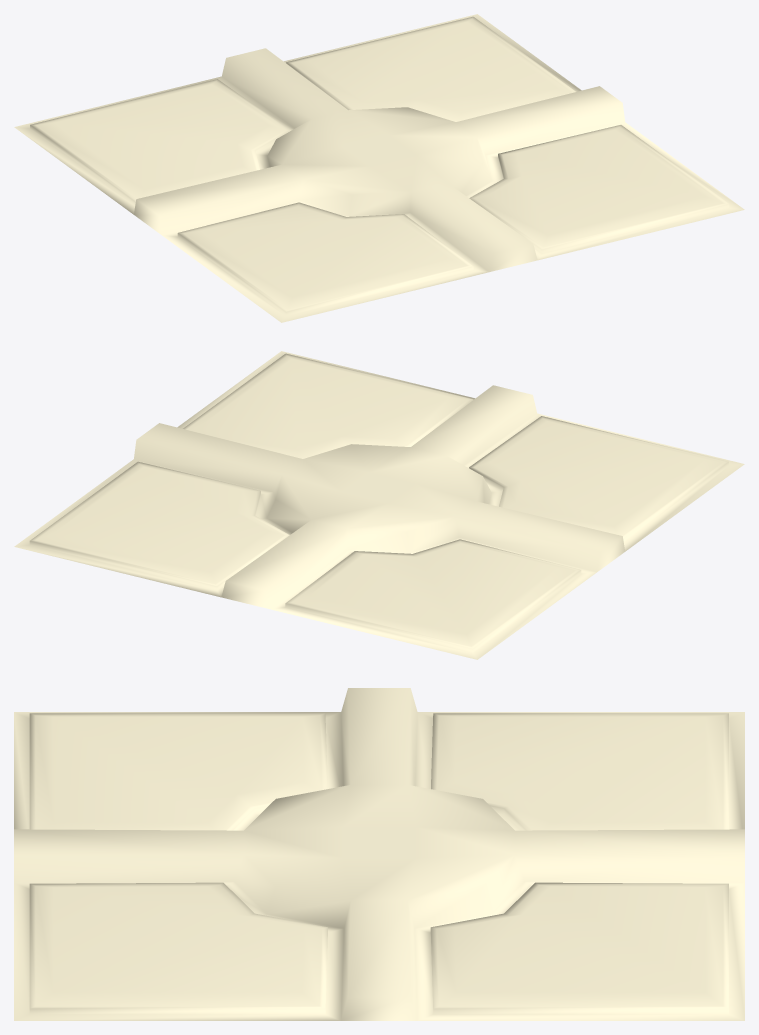
The model's file is 43ca2898-6fbe-4520-a0ab-1ce04fa0047d.glb.
3 renders of one model, top to bottom at view 1: azimuth 30°, elevation 25°; view 2: azimuth 150°, elevation 25°; view 3: azimuth 270°, elevation 25°, orthographic. The views are drawn at different scales.
Parts seen in each view (by area): view 1: ArtDecoFloorTile.002; view 2: ArtDecoFloorTile.002; view 3: ArtDecoFloorTile.002.
Part boxes in pixels (x1,y1,x2,y2): ArtDecoFloorTile.002: (14, 14, 744, 322); ArtDecoFloorTile.002: (14, 351, 744, 659); ArtDecoFloorTile.002: (14, 688, 744, 1020).
Size of what is drawn, in the model's own units: 6.29 by 0.2271 by 6.29.
Materials: 1 (1 with a texture image).
